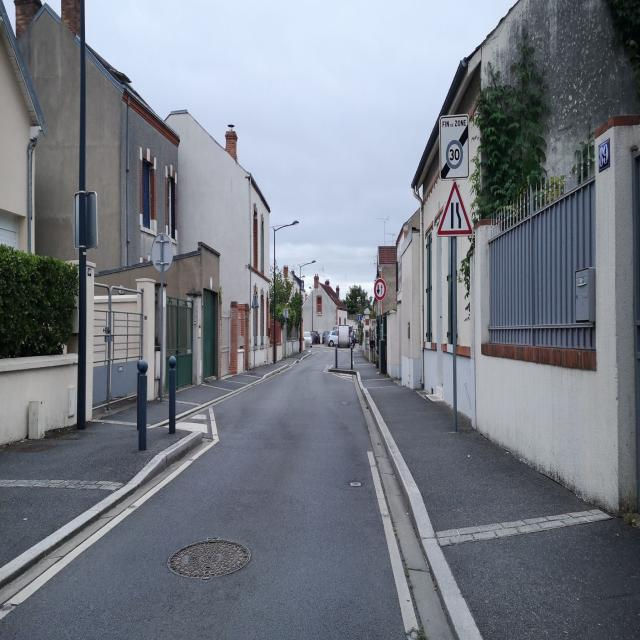car: (327, 327, 339, 347), (304, 330, 313, 347), (312, 329, 320, 344)
